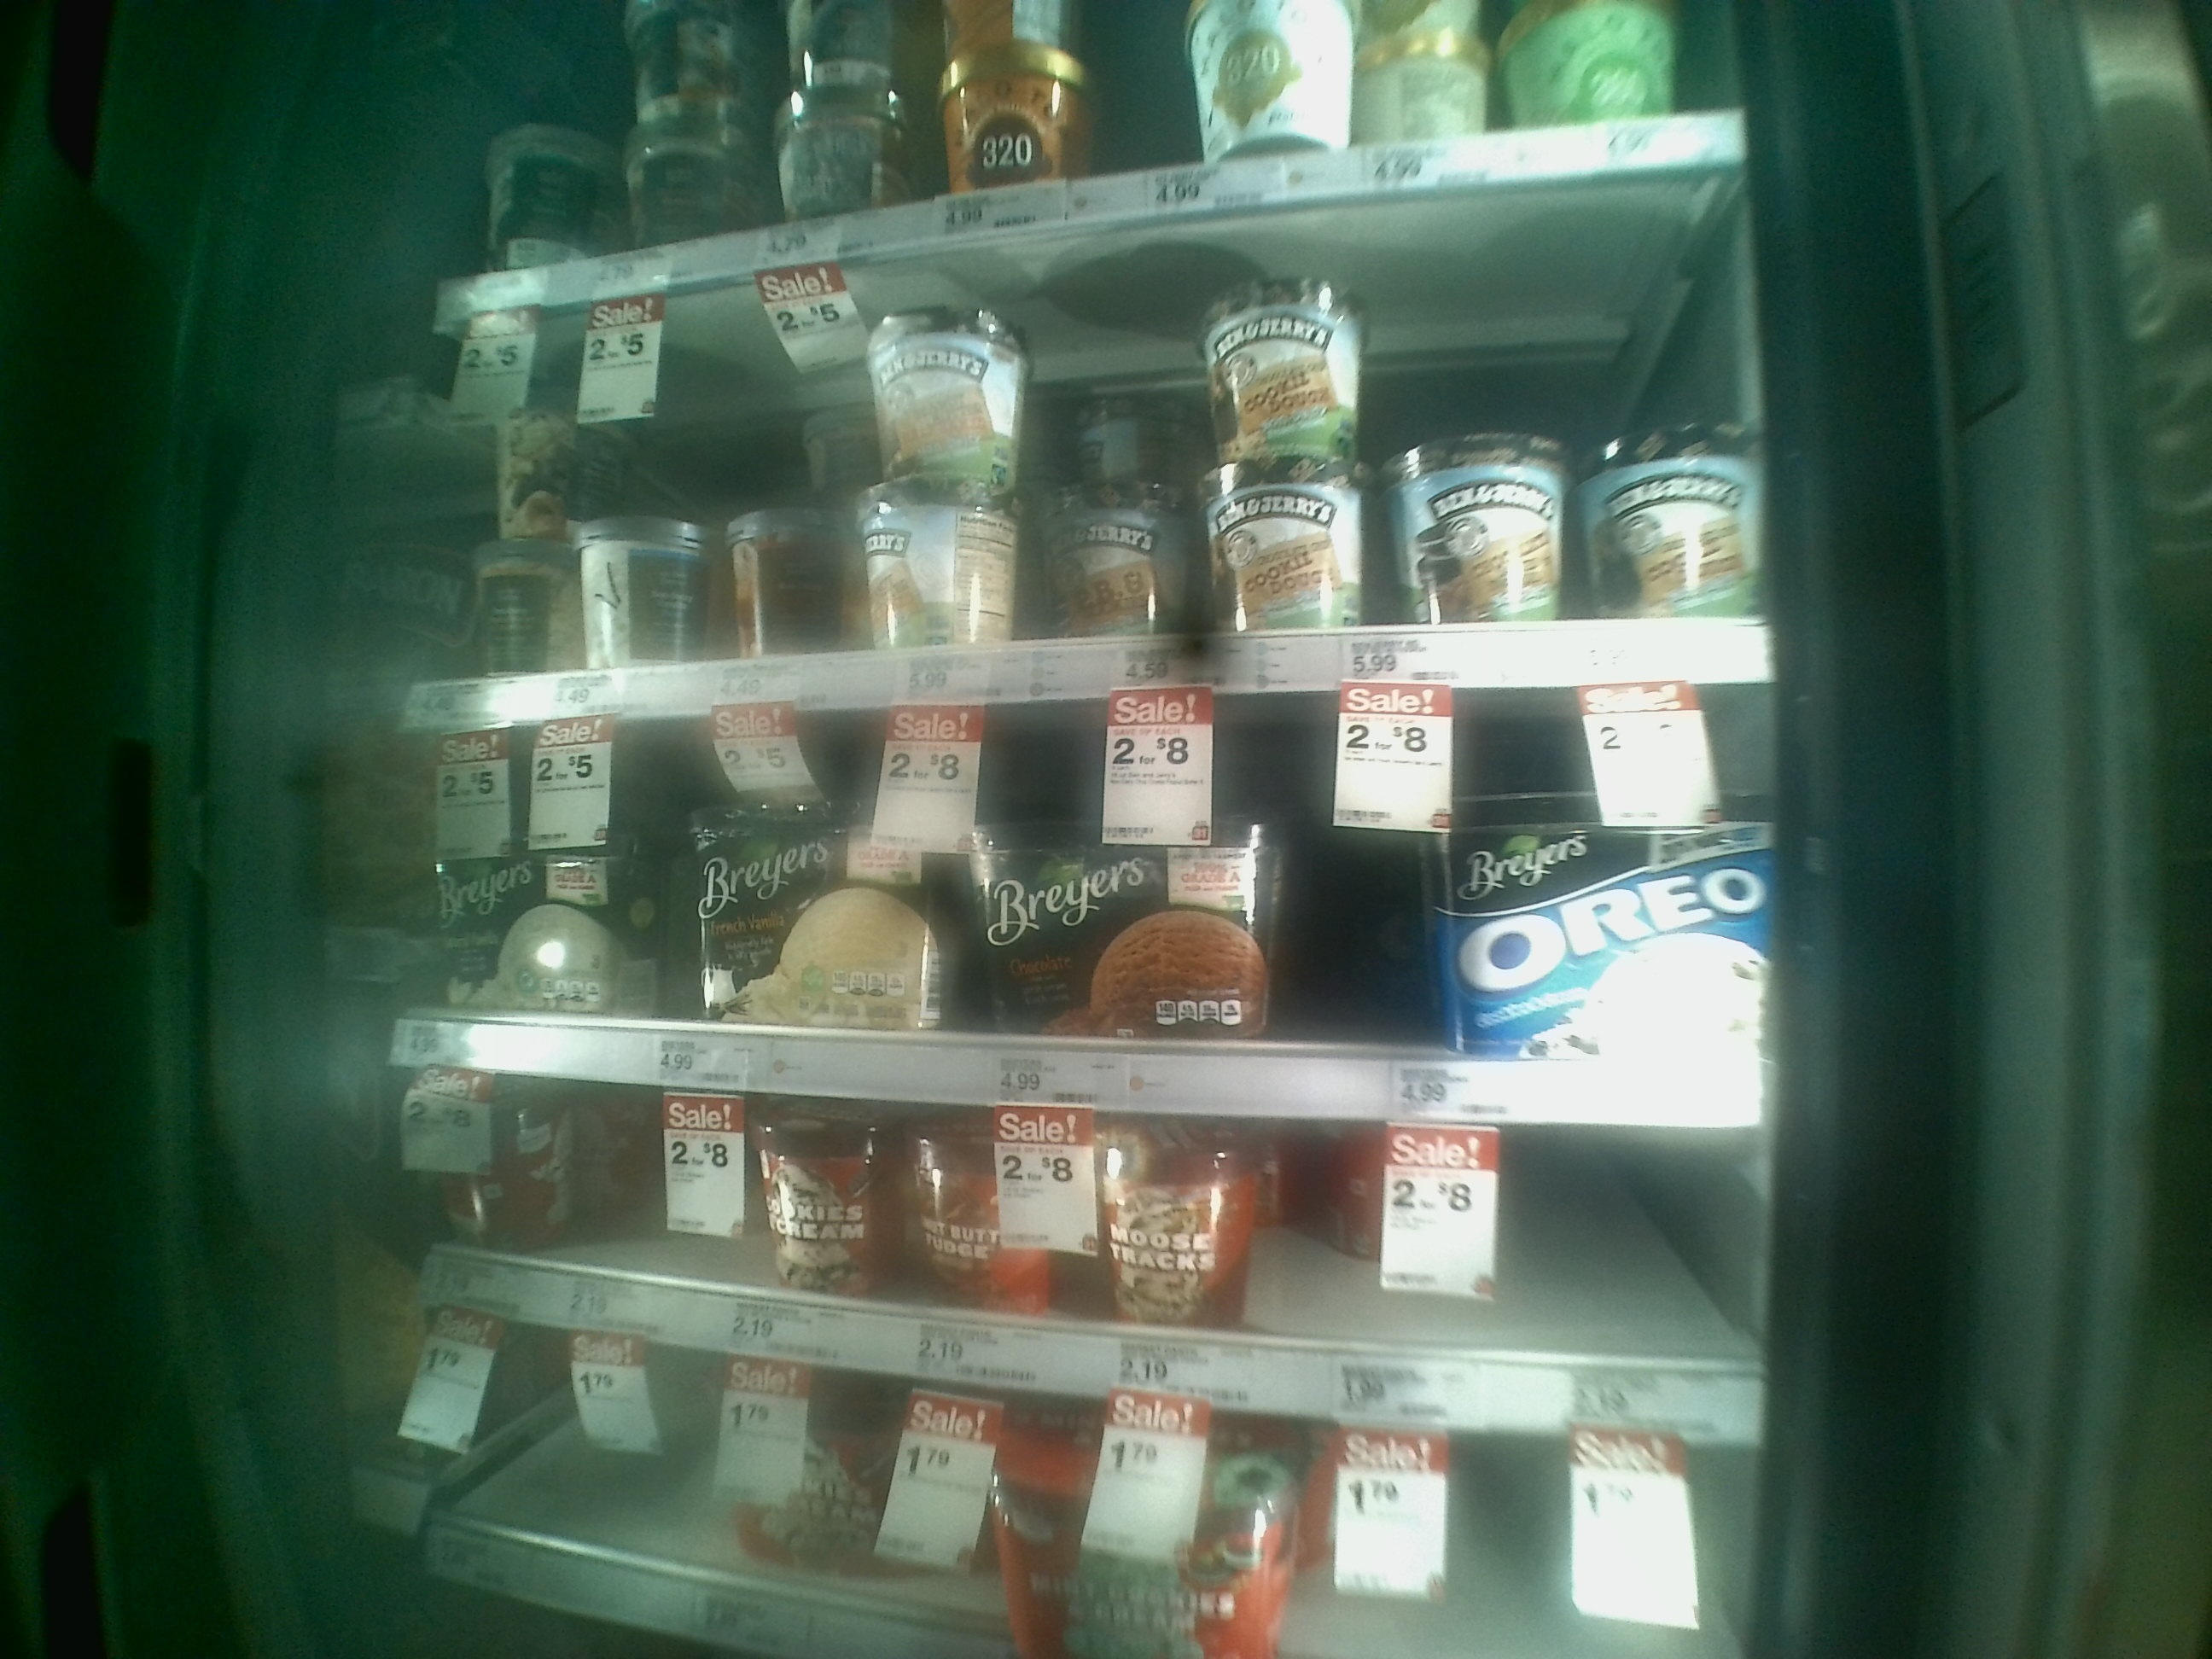ice-cream-shelf: (418, 692, 1780, 1126)
